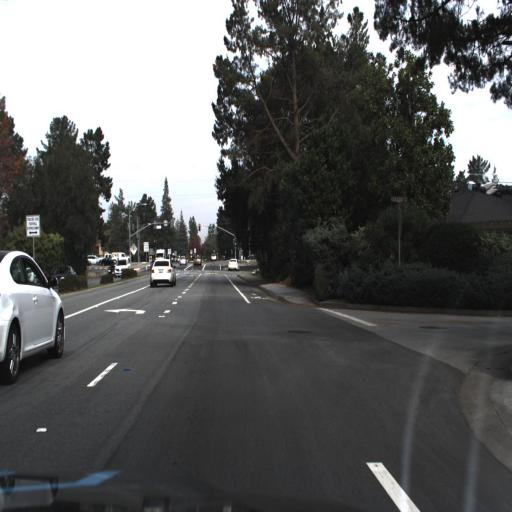car: (0, 248, 66, 391), (0, 248, 67, 388), (147, 258, 177, 286), (224, 251, 242, 276), (112, 255, 130, 278), (226, 255, 241, 274), (176, 253, 188, 269), (193, 254, 204, 270)
